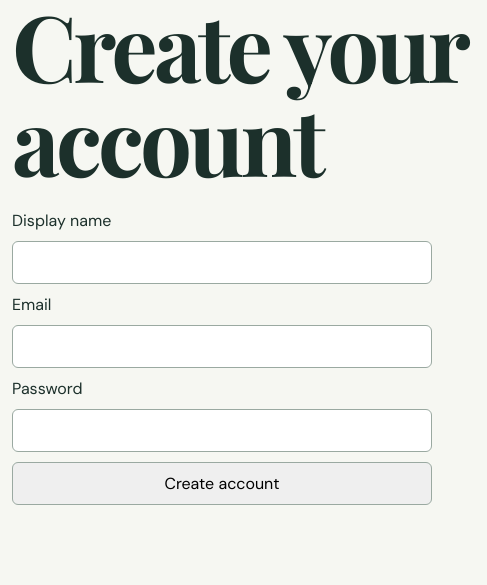
Test: registration feedback › shows password rule and redirects after successful registration
In the field labelled "Display name": {"x": 222, "y": 262} 12,241 -> 432,284, type "Ada"
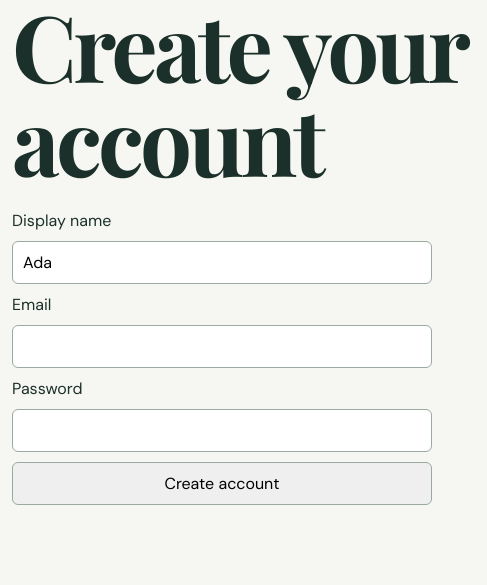
In the field labelled "Email": {"x": 222, "y": 346} 12,325 -> 432,368, type "a@example.com"
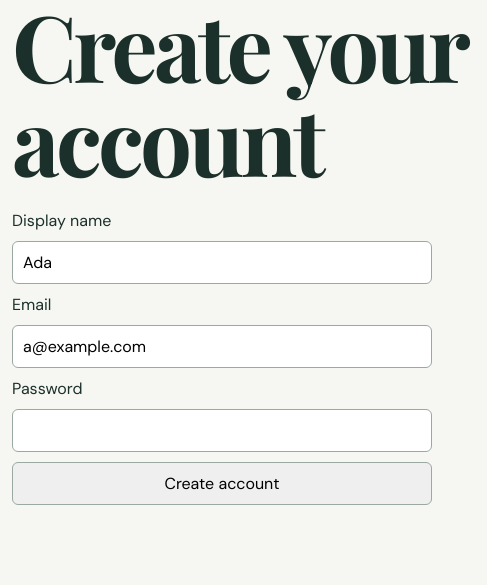
In the password field labelled "Password": {"x": 222, "y": 430} 12,409 -> 432,452, type "short"
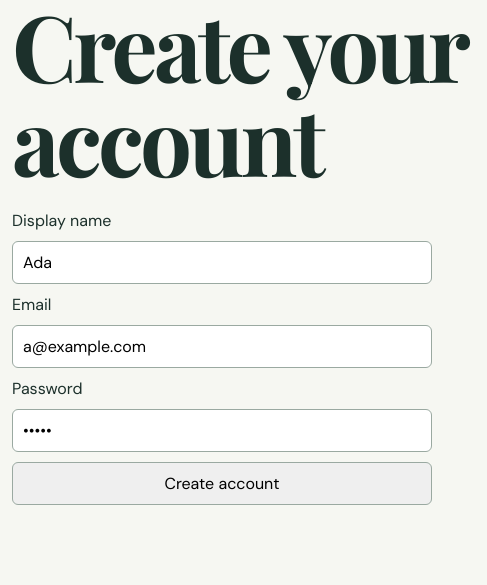
Click the button "Create account": {"x": 222, "y": 484} 12,462 -> 432,505
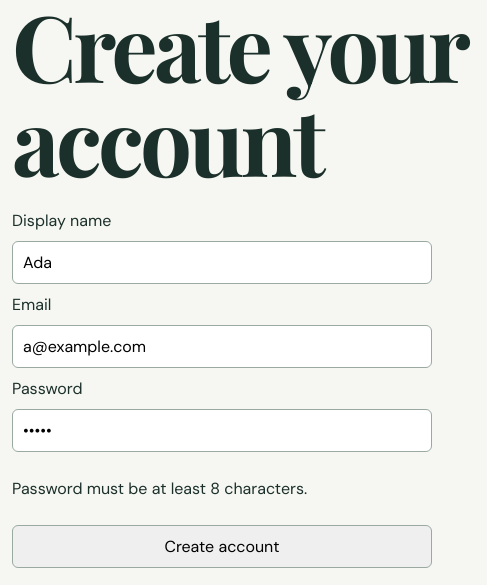
Expected: the message shows "at least 8 characters", 12,478 -> 307,499
